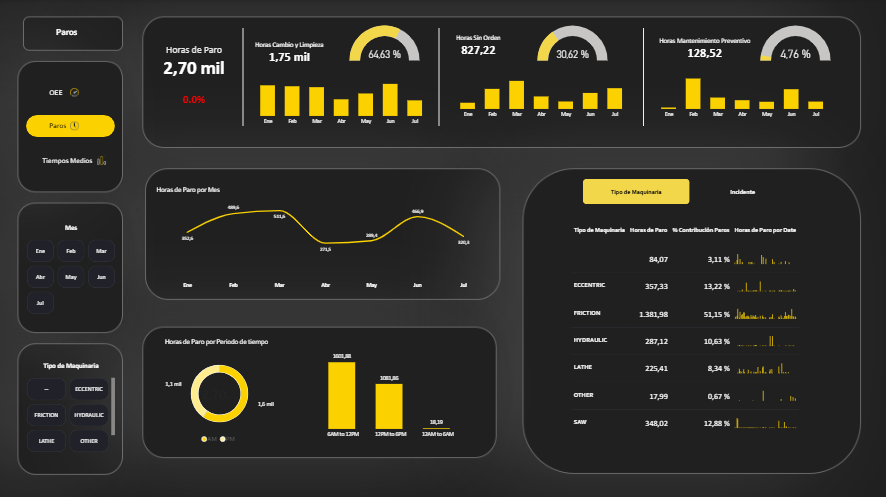

This screenshot's page, from the dashboard's own definition file:
{"tool":"powerbi","page":{"name":"Paros","canvas":[1920,1080],"ordinal":1},"visuals":[{"type":"actionButton","box":[58.3,179.3,192.2,45.4],"z":0},{"type":"actionButton","box":[58.3,250.6,192.2,47.5],"z":1},{"type":"actionButton","box":[43.2,328.3,341.3,41],"z":2},{"type":"shape","box":[123.1,47.5,127.4,49.7],"z":3},{"type":"advancedSlicerVisual","title":"Mes","fields":{"Values":["dim_date.Mes"]},"box":[60.5,486,190.1,196.6],"z":4},{"type":"advancedSlicerVisual","title":"Tipo de Maquinaria","fields":{"Values":["dim_machine.Machine Type"]},"box":[60.5,784.1,190.1,196.6],"z":5},{"type":"cardVisual","fields":{"Data":["_Medidas OEE.Horas de Paro"]},"box":[265.7,47.5,311,177.1],"z":6},{"type":"card","fields":{"Values":["_Medidas OEE.Downtime chg"]},"box":[341.3,185.8,159.8,64.8],"z":7},{"type":"cardVisual","fields":{"Data":["_Medidas OEE.Horas Cambio y Limpieza"]},"box":[501.1,62.6,252.7,105.8],"z":8},{"type":"gauge","fields":{"Y":["_Medidas OEE.% Cambio y Limpieza"]},"box":[740.9,32.4,183.6,127.4],"z":9},{"type":"columnChart","fields":{"Category":["dim_date.Mes"],"Y":["_Medidas OEE.Horas Cambio y Limpieza"]},"box":[527,142.6,425.5,149],"z":10},{"type":"shape","box":[924.5,62.6,51.8,211.7],"z":11},{"type":"cardVisual","fields":{"Data":["_Medidas OEE.Horas Sin Orden"]},"box":[924.5,47.5,222.5,106.2],"z":12},{"type":"gauge","fields":{"Y":["_Medidas OEE.% Sin Orden"]},"box":[1147,32.4,183.6,127.4],"z":13},{"type":"columnChart","fields":{"Category":["dim_date.Mes"],"Y":["_Medidas OEE.Horas Sin Orden"]},"box":[959,127.4,425.5,149],"z":14},{"type":"shape","box":[501.1,62.6,51.8,211.7],"z":15},{"type":"shape","box":[1384.6,62.6,15.1,211.7],"z":16},{"type":"cardVisual","fields":{"Data":["_Medidas OEE.Horas Mantenimiento Preventivo"]},"box":[1384.6,54,280.8,105.8],"z":17},{"type":"gauge","fields":{"Y":["_Medidas OEE.% Mantenimiento Preventivo"]},"box":[1628.6,32.4,183.6,127.4],"z":18},{"type":"columnChart","fields":{"Category":["dim_date.Mes"],"Y":["_Medidas OEE.Horas Mantenimiento Preventivo"]},"box":[1393.2,127.4,425.5,149],"z":19},{"type":"lineClusteredColumnComboChart","title":"Horas de Paro por Mes","fields":{"Category":["Month Cal table.Mes"],"Y":["Month Cal table.Downtime Bar CF Highlight"],"Y2":["Month Cal table.Downtime Line chart","Month Cal table.Downtime CF Highlight"]},"box":[324,388.8,762.5,257],"z":20},{"type":"shape","box":[358.6,725.8,347.9,30.5],"z":21},{"type":"donutChart","fields":{"Category":["dim_time.AMPM"],"Y":["_Medidas OEE.Horas de Paro"]},"box":[324,756,304.6,224.6],"z":22},{"type":"columnChart","fields":{"Category":["dim_time.Period"],"Y":["_Medidas OEE.Horas de Paro"]},"box":[654.5,725.8,382.3,241.9],"z":23},{"type":"advancedSlicerVisual","fields":{"Values":["Maquina/Incidente.Maquina/Incidente"]},"box":[1261.4,388.8,460.1,54],"z":24},{"type":"pivotTable","fields":{"Rows":["dim_machine.Machine Type"],"Values":["_Medidas OEE.Horas de Paro","_Medidas OEE.% Contribución Paros","SparklineData(_Medidas OEE.Horas de Paro_[dim_date.Date])"]},"box":[1220.4,457.9,613.4,522.7],"z":25}]}

Visuals, with their boxes in screenshot pixels (x1, y1, x2, y2), scaled from the page's 1920x1080 canvas onto the 886x497 screenshot:
actionButton: BBox(27, 83, 116, 103)
actionButton: BBox(27, 115, 116, 137)
actionButton: BBox(20, 151, 177, 170)
shape: BBox(57, 22, 116, 45)
"Mes" advancedSlicerVisual: BBox(28, 224, 116, 314)
"Tipo de Maquinaria" advancedSlicerVisual: BBox(28, 361, 116, 451)
cardVisual - _Medidas OEE.Horas de Paro: BBox(123, 22, 266, 103)
card - _Medidas OEE.Downtime chg: BBox(157, 86, 231, 115)
cardVisual - _Medidas OEE.Horas Cambio y Limpieza: BBox(231, 29, 348, 77)
gauge - _Medidas OEE.% Cambio y Limpieza: BBox(342, 15, 427, 74)
columnChart - dim_date.Mes x _Medidas OEE.Horas Cambio y Limpieza: BBox(243, 66, 440, 134)
shape: BBox(427, 29, 451, 126)
cardVisual - _Medidas OEE.Horas Sin Orden: BBox(427, 22, 529, 71)
gauge - _Medidas OEE.% Sin Orden: BBox(529, 15, 614, 74)
columnChart - dim_date.Mes x _Medidas OEE.Horas Sin Orden: BBox(443, 59, 639, 127)
shape: BBox(231, 29, 255, 126)
shape: BBox(639, 29, 646, 126)
cardVisual - _Medidas OEE.Horas Mantenimiento Preventivo: BBox(639, 25, 769, 74)
gauge - _Medidas OEE.% Mantenimiento Preventivo: BBox(752, 15, 836, 74)
columnChart - dim_date.Mes x _Medidas OEE.Horas Mantenimiento Preventivo: BBox(643, 59, 839, 127)
"Horas de Paro por Mes" lineClusteredColumnComboChart: BBox(150, 179, 501, 297)
shape: BBox(165, 334, 326, 348)
donutChart - dim_time.AMPM x _Medidas OEE.Horas de Paro: BBox(150, 348, 290, 451)
columnChart - dim_time.Period x _Medidas OEE.Horas de Paro: BBox(302, 334, 478, 445)
advancedSlicerVisual - Maquina/Incidente.Maquina/Incidente: BBox(582, 179, 794, 204)
pivotTable - dim_machine.Machine Type x _Medidas OEE.Horas de Paro: BBox(563, 211, 846, 451)
